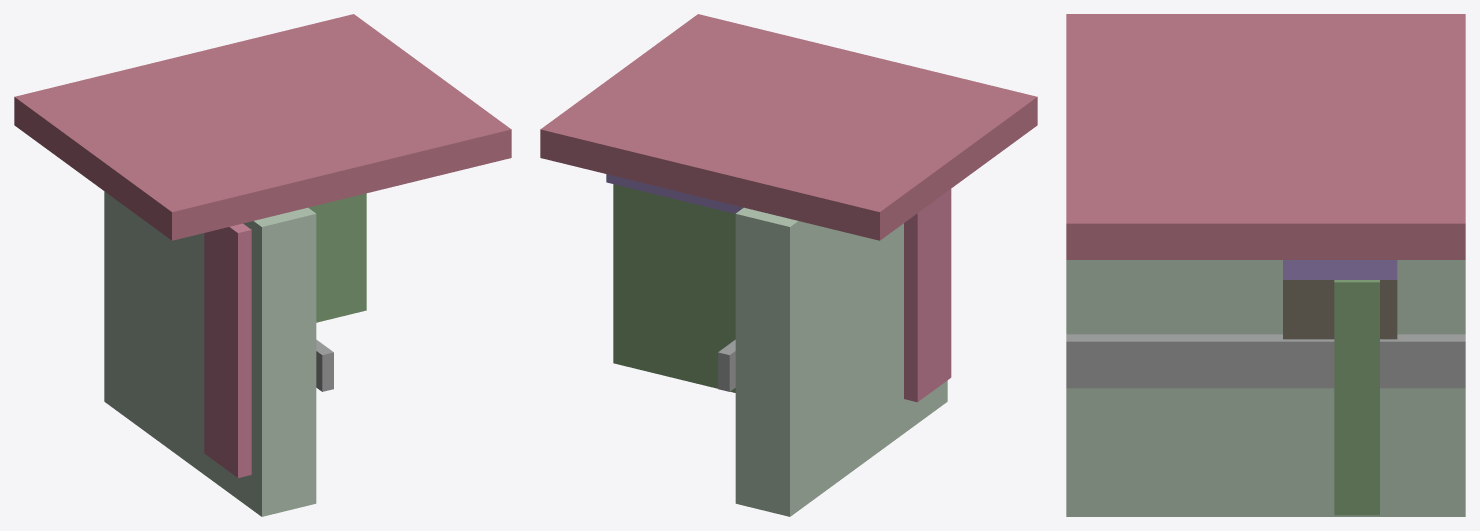
3 renders of one model, left to right at view 1: azimuth 30°, elevation 25°; view 2: azimuth 150°, elevation 25°; view 3: azimuth 270°, elevation 25°, orthographic. The views are drawn at different scales.
Parts seen in each view (by area): view 1: world; view 2: world; view 3: world.
Boxes of the visible parts, x1,y1,x2,y2 form: world: [14, 14, 511, 516]; world: [540, 14, 1037, 516]; world: [1066, 14, 1465, 516].
Bounding box in the file's own units: 8.7 × 8 × 7.
